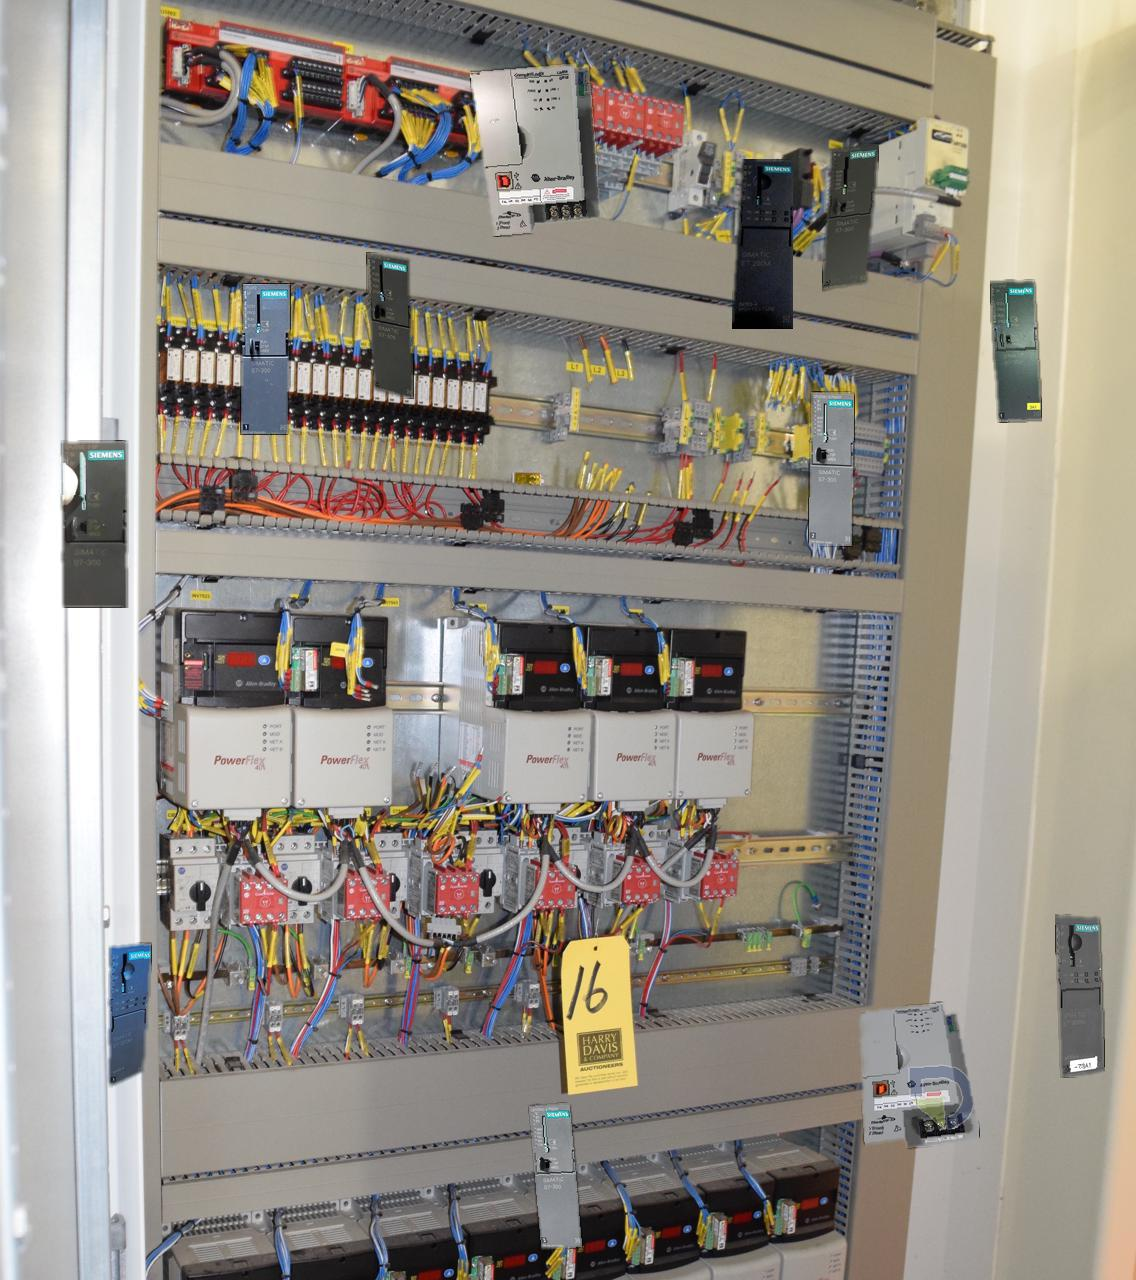AllenBradley: (470, 65, 599, 235), (860, 1003, 978, 1147)
Siemens: (63, 441, 126, 607), (822, 144, 878, 288), (530, 1105, 581, 1248), (241, 284, 289, 433), (990, 281, 1041, 421), (809, 392, 853, 545), (367, 253, 412, 397)
